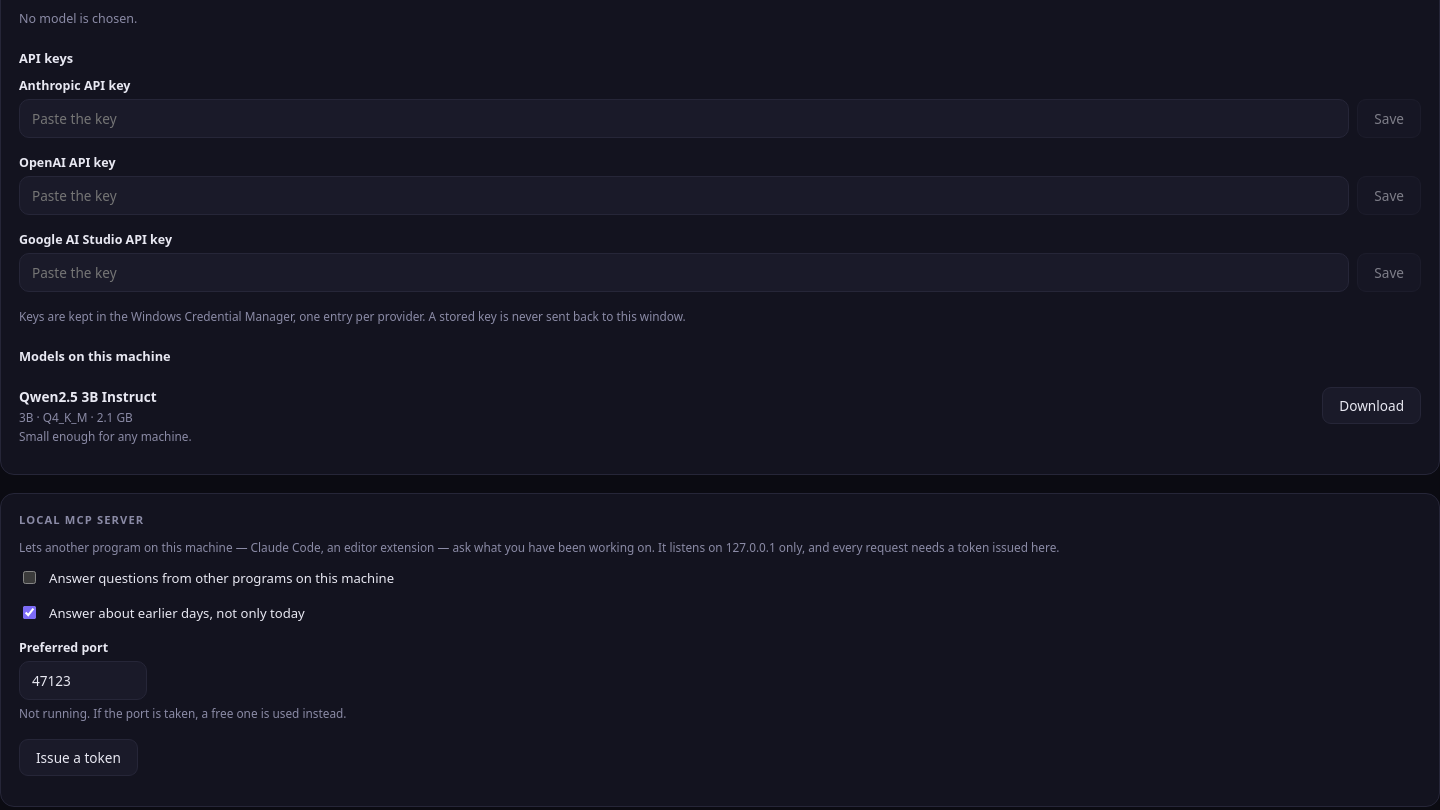
Test: Settings — local models › shows a download progressing and then installed
(page scrolled)
Step 1. Click the button "Download" → x=1372, y=406, box [1322,388,1421,424]
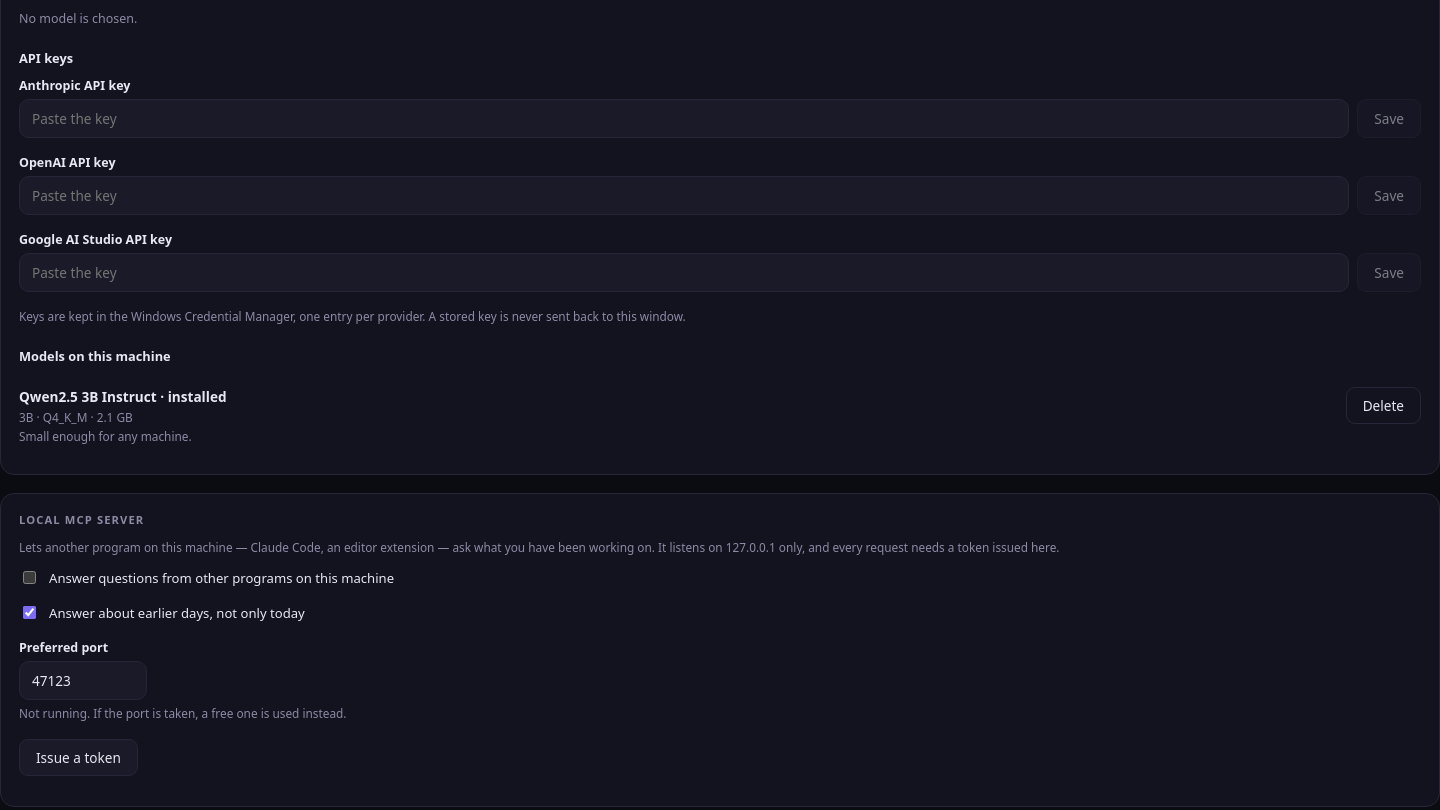
expect the button named "Cancel" is shown: met, box [1346,388,1421,424]
expect the text "Qwen2.5 3B Instruct · installed" is shown: met, box [19,388,226,406]
